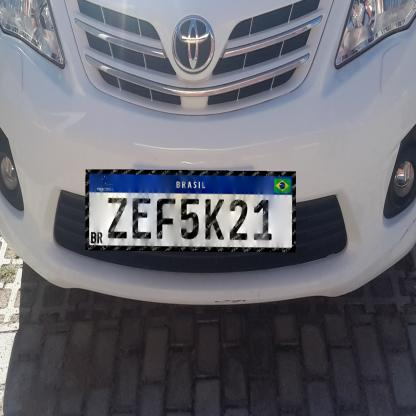PlacaM: (85, 169, 296, 252)
